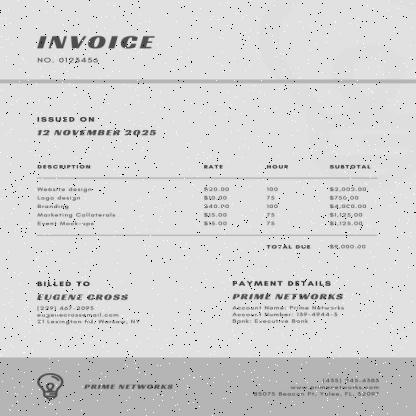Paragraph: (224, 274, 352, 328), (32, 278, 144, 328), (30, 32, 158, 66), (246, 372, 385, 400), (30, 112, 160, 140), (262, 239, 371, 254), (78, 381, 180, 393)
Table: (31, 160, 378, 235)
